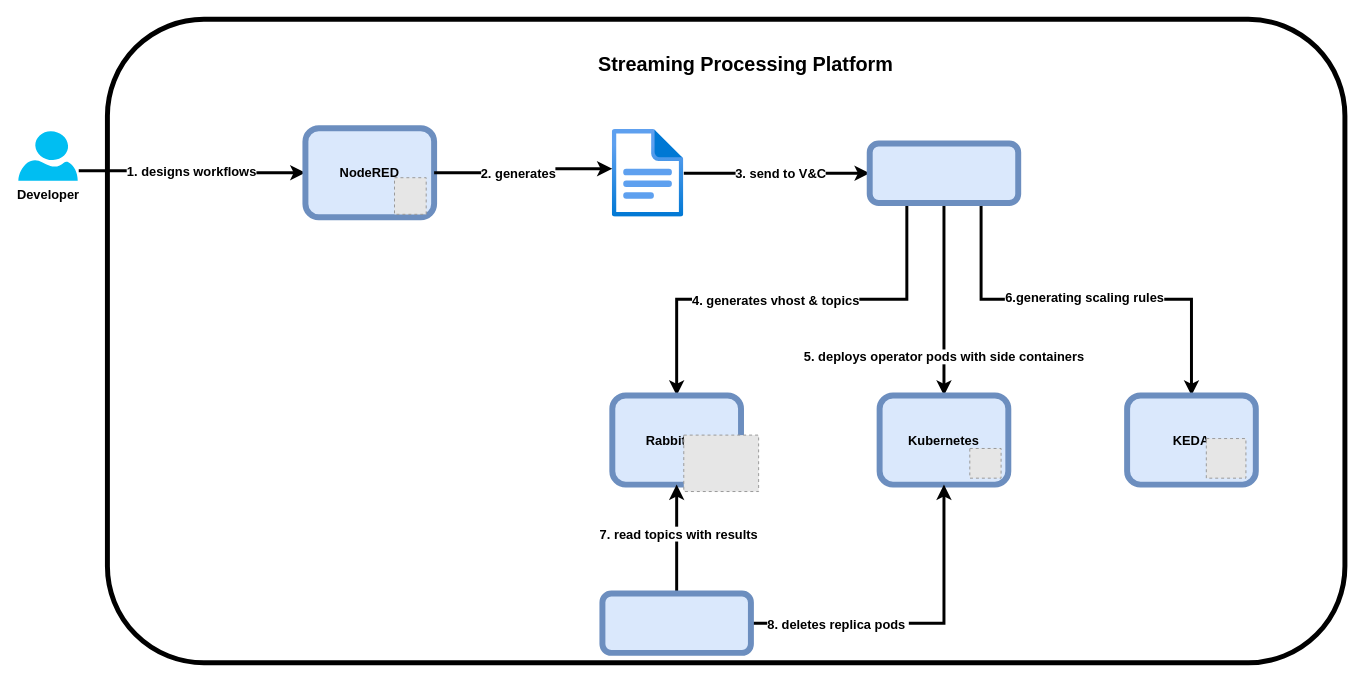
Some shapes in this 1364 by 682 pixel diagram are drawn without their labels. Grey dashed boxes stand in for pictures. Each missing label, with the centre of its shape:
"Instance Manager" goes at point (676, 622).
"TOSCA file" goes at point (647, 173).
"Validator & Converter" goes at point (943, 172).
